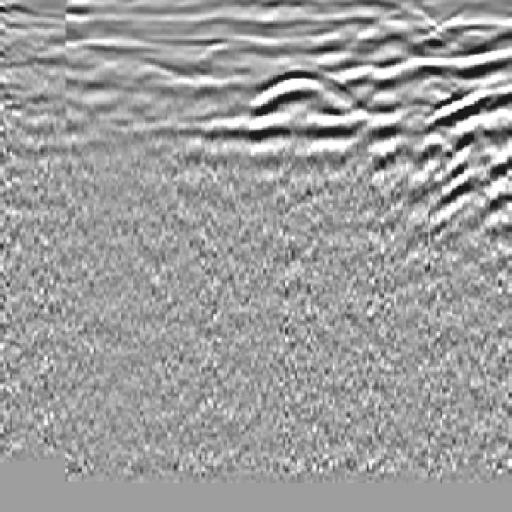metalic: (240, 60, 373, 141)
